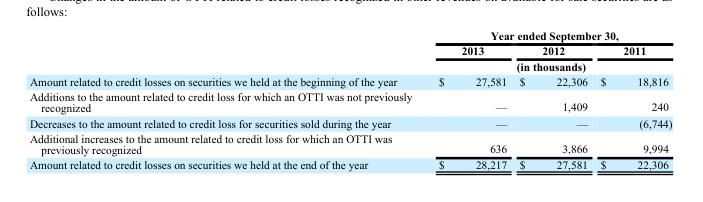table: (28, 29, 671, 170)
table column: (28, 29, 424, 170), (424, 29, 512, 170), (512, 29, 593, 170), (593, 29, 671, 170)
table column header: (28, 29, 671, 73)
table row: (28, 88, 671, 115), (28, 130, 671, 156), (28, 42, 671, 58), (28, 58, 671, 73), (28, 73, 671, 88), (28, 115, 671, 130), (28, 156, 671, 170), (28, 29, 671, 42)
table spanning cell: (424, 58, 671, 73), (424, 29, 671, 42)
